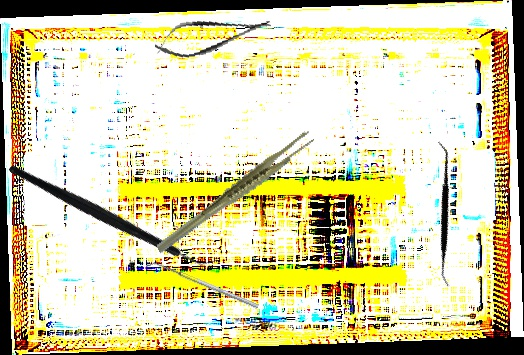Chopper: (7, 105, 222, 326)
Micro Scissor: (151, 7, 275, 64)
Spatula Surgical: (378, 140, 509, 289), (145, 258, 260, 313)
Tissue Forceps: (139, 129, 331, 255)
